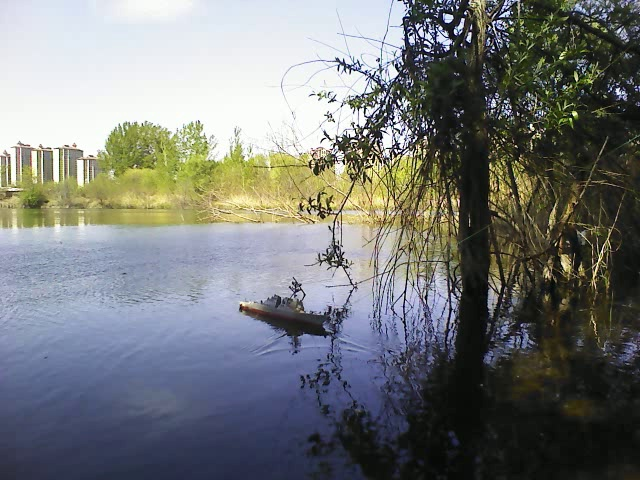warship: (238, 280, 337, 335)
